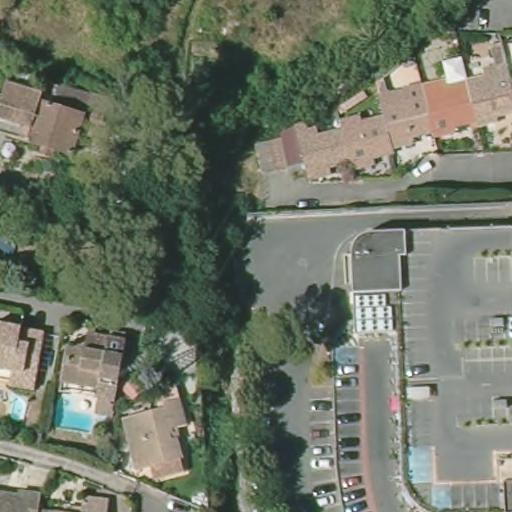pool: (54, 386, 99, 440), (6, 391, 31, 421)
